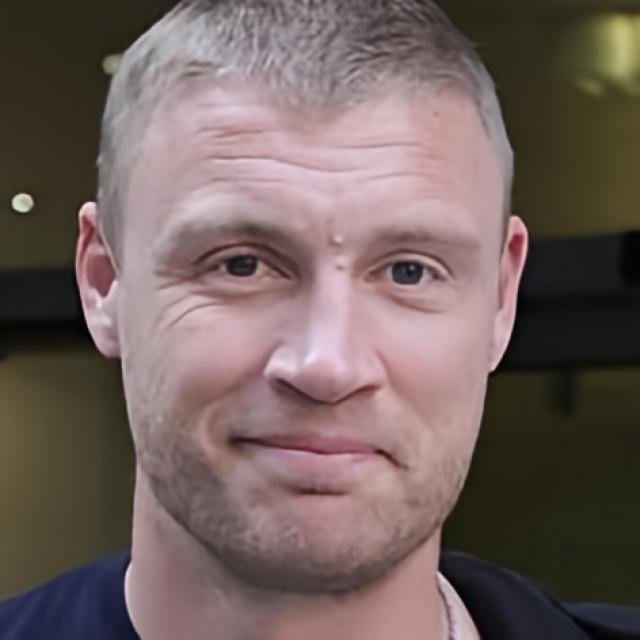content: (120, 73, 498, 594)
